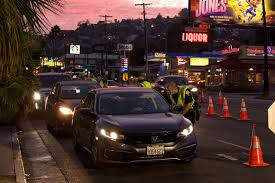car: (74, 87, 198, 165), (46, 80, 101, 132), (30, 73, 72, 114)
cone: (243, 123, 267, 167), (220, 98, 234, 117), (239, 97, 250, 119), (206, 96, 217, 116), (217, 91, 227, 106), (199, 91, 207, 103)
